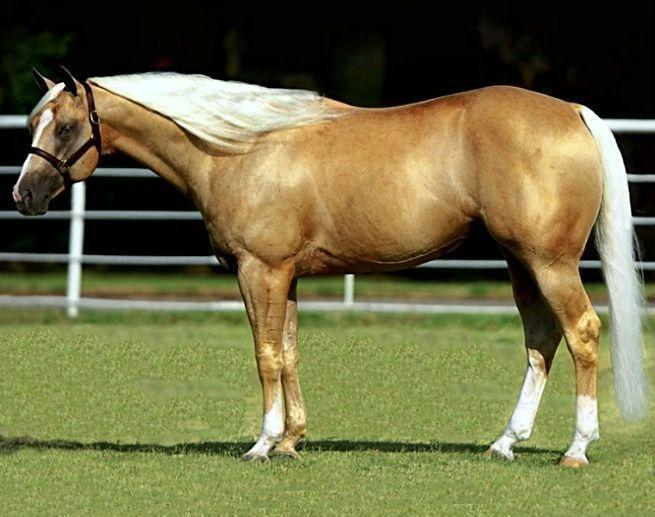horse: (11, 63, 650, 468)
